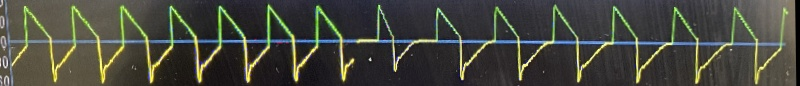normal_flow: (1, 0, 800, 84)
peepi: (7, 0, 348, 86)
